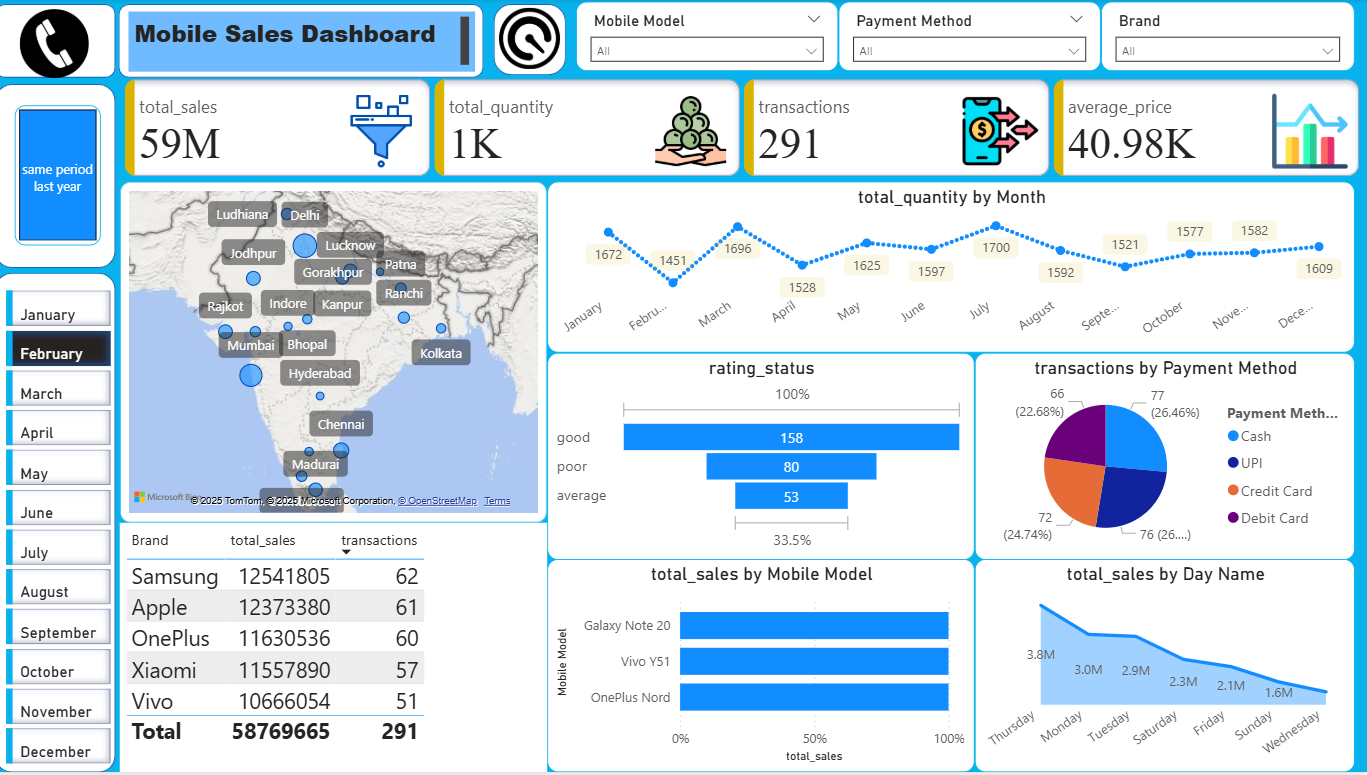

What the dashboard file says about the page in this screenshot:
{"tool":"powerbi","page":{"name":"DASHBOARD","canvas":[1280,720],"ordinal":0},"visuals":[{"type":"shape","box":[467.4,4.7,67.4,66.3],"z":0},{"type":"shape","box":[3.8,5,112.5,68.8],"z":1000},{"type":"image","box":[22.5,5,73.8,73.8],"z":2000},{"type":"shape","box":[3.8,78.8,112.5,171.2],"z":3000},{"type":"shape","box":[3.8,255,112.5,465],"z":4000},{"type":"advancedSlicerVisual","fields":{"Values":["custom_calender.dates.Variation.Date Hierarchy.Month"]},"box":[8.8,266.2,107.5,453.8],"z":5000},{"type":"cardVisual","fields":{"Data":["mobile_sales_data.total_sales","mobile_sales_data.total_quantity","mobile_sales_data.transactions","mobile_sales_data.average_price"]},"box":[119.8,69.8,1160.5,100],"z":6000},{"type":"slicer","fields":{"Values":["mobile_sales_data.Mobile Model"]},"box":[544.2,2.3,244.2,65.1],"z":7000},{"type":"slicer","fields":{"Values":["mobile_sales_data.Payment Method"]},"box":[788.4,2.3,244.2,65.1],"z":8000},{"type":"slicer","fields":{"Values":["mobile_sales_data.Brand"]},"box":[1032.6,2.3,236,65.1],"z":9000},{"type":"image","box":[458.1,3.5,86,66.3],"z":10000},{"type":"shape","box":[118.6,4.7,339.5,68.6],"z":11000},{"type":"textbox","box":[127.9,11.6,322.1,55.8],"z":12000},{"type":"map","fields":{"Category":["mobile_sales_data.City"],"Size":["mobile_sales_data.total_sales"]},"box":[119.8,169.8,397.7,317.4],"z":13000},{"type":"lineChart","fields":{"Category":["custom_calender.dates.Variation.Date Hierarchy.Month"],"Y":["mobile_sales_data.total_quantity"]},"box":[517.4,169.8,751.2,159.3],"z":14000},{"type":"funnel","title":"rating_status","fields":{"Y":["CountNonNull(mobile_sales_data.Customer Ratings)"],"Category":["mobile_sales_data.rating_status"]},"box":[517.5,328.8,397.5,192.5],"z":15000},{"type":"pieChart","fields":{"Y":["mobile_sales_data.transactions"],"Category":["mobile_sales_data.Payment Method"]},"box":[915,328.8,353.8,192.5],"z":16000},{"type":"hundredPercentStackedBarChart","fields":{"Y":["mobile_sales_data.total_sales"],"Category":["mobile_sales_data.Mobile Model"]},"box":[517.5,521.2,397.5,198.8],"z":17000},{"type":"stackedAreaChart","fields":{"Category":["custom_calender.Day Name"],"Y":["mobile_sales_data.total_sales"]},"box":[915,521.2,353.8,198.8],"z":18000},{"type":"tableEx","fields":{"Values":["mobile_sales_data.Brand","mobile_sales_data.total_sales","mobile_sales_data.transactions"]},"box":[120,487.5,397.5,232.5],"z":19000},{"type":"pageNavigator","box":[22.1,98.8,80.2,130.2],"z":19001}]}

Visuals, with their boxes in screenshot pixels (x1, y1, x2, y2), scaled from the page's 1280x720 canvas onto the 1367x775 screenshot:
shape: bbox=[499, 5, 571, 76]
shape: bbox=[4, 5, 124, 79]
image: bbox=[24, 5, 103, 85]
shape: bbox=[4, 85, 124, 269]
shape: bbox=[4, 274, 124, 774]
advancedSlicerVisual - custom_calender.dates.Variation.Date Hierarchy.Month: bbox=[9, 287, 124, 774]
cardVisual - mobile_sales_data.total_sales x mobile_sales_data.total_quantity: bbox=[128, 75, 1366, 183]
slicer - mobile_sales_data.Mobile Model: bbox=[581, 2, 842, 73]
slicer - mobile_sales_data.Payment Method: bbox=[842, 2, 1103, 73]
slicer - mobile_sales_data.Brand: bbox=[1103, 2, 1355, 73]
image: bbox=[489, 4, 581, 75]
shape: bbox=[127, 5, 489, 79]
textbox: bbox=[137, 12, 481, 73]
map - mobile_sales_data.City x mobile_sales_data.total_sales: bbox=[128, 183, 553, 524]
lineChart - custom_calender.dates.Variation.Date Hierarchy.Month x mobile_sales_data.total_quantity: bbox=[553, 183, 1355, 354]
"rating_status" funnel: bbox=[553, 354, 977, 561]
pieChart - mobile_sales_data.transactions x mobile_sales_data.Payment Method: bbox=[977, 354, 1355, 561]
hundredPercentStackedBarChart - mobile_sales_data.total_sales x mobile_sales_data.Mobile Model: bbox=[553, 561, 977, 774]
stackedAreaChart - custom_calender.Day Name x mobile_sales_data.total_sales: bbox=[977, 561, 1355, 774]
tableEx - mobile_sales_data.Brand x mobile_sales_data.total_sales: bbox=[128, 525, 553, 774]
pageNavigator: bbox=[24, 106, 109, 246]
